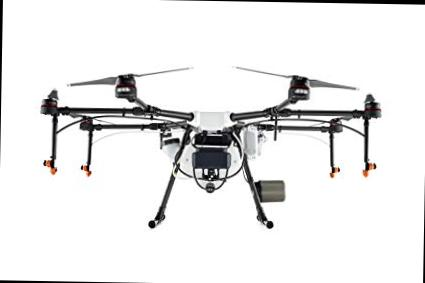drone: (36, 57, 394, 213)
